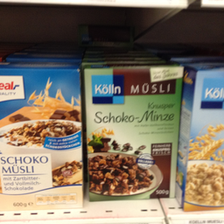cereal: (82, 62, 185, 202), (1, 62, 83, 212)
